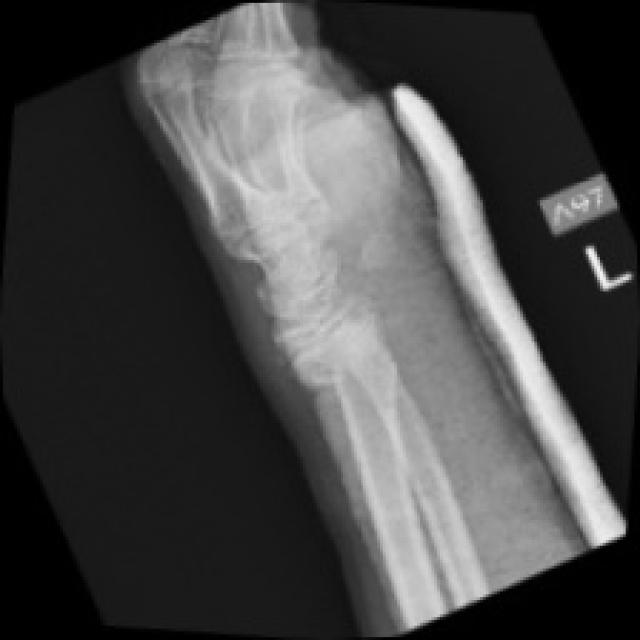fracture: (274, 343, 374, 414)
